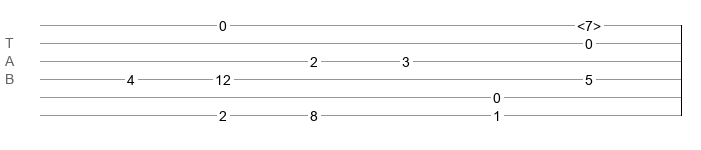0: (219, 18, 227, 28), (493, 90, 501, 100), (585, 36, 593, 46)
1: (493, 108, 501, 118)
12: (215, 72, 231, 82)
2: (219, 108, 227, 118), (310, 54, 318, 64)
3: (402, 54, 410, 64)
4: (127, 72, 135, 82)
5: (585, 72, 593, 82)
8: (310, 108, 318, 118)
harmonic: (577, 18, 601, 28)
